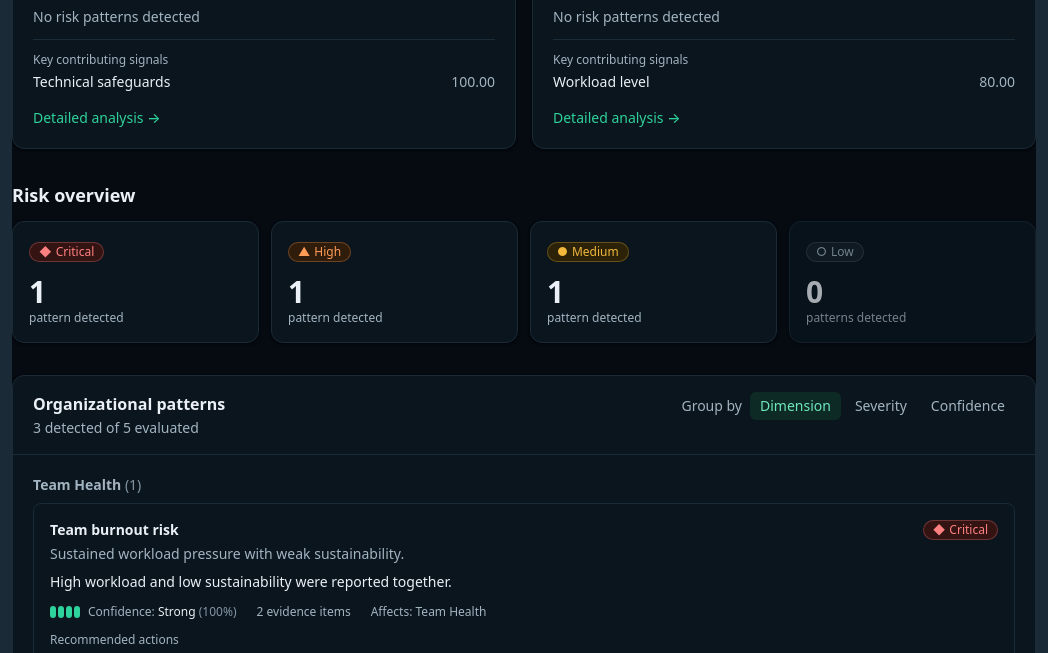
DashboardPage › filters patterns by clicking a severity count and clears the filter
(page scrolled)
Click the button "▲ High 1 pattern detected" at (394, 282), box [271,221,518,343]
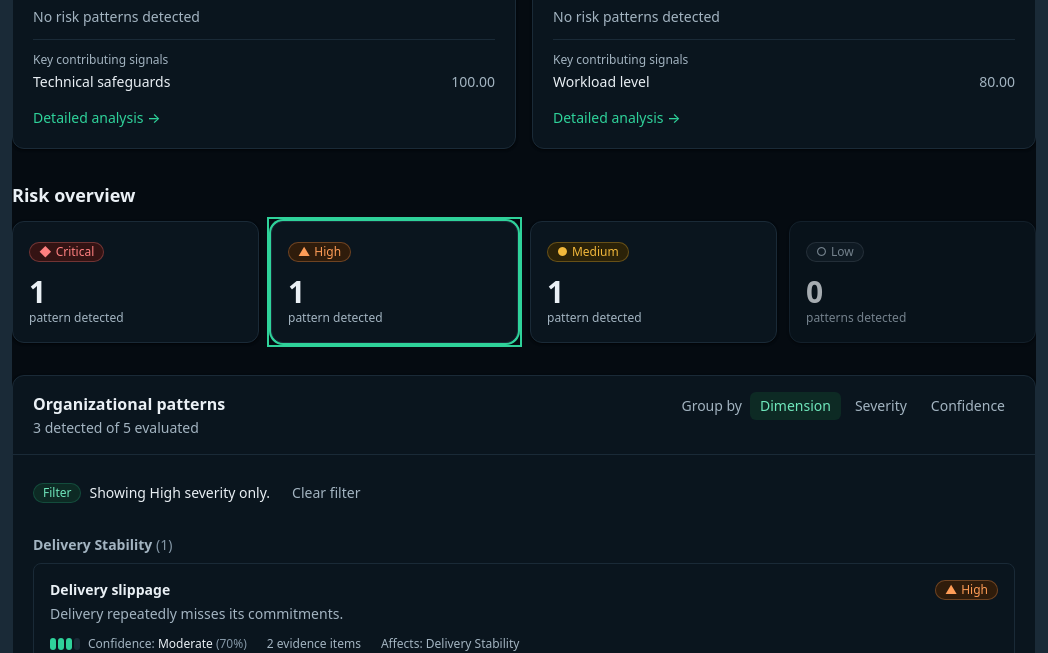
Check: the element "Team burnout risk" is not shown
Check: the text "Filter Showing High severity only. Clear filter" is shown, box [33,475,374,511]
Click the button "Clear filter" at (326, 493), box [278,475,374,511]
(page scrolled)
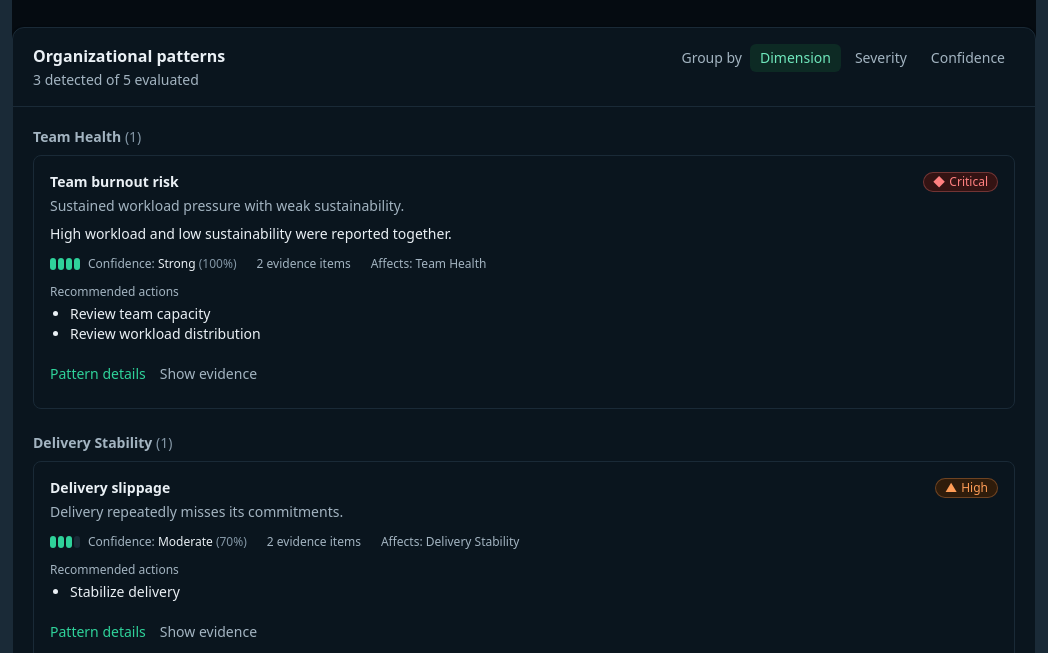
Check: the element "Team burnout risk" is shown, box [33,155,1015,409]
